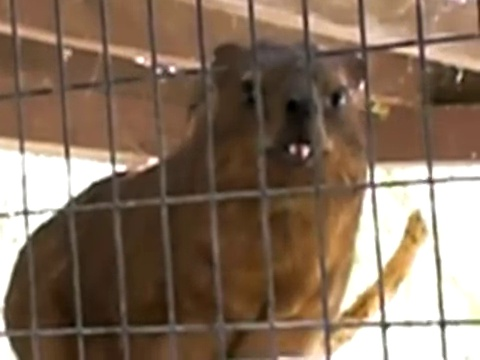Rock Hyrex: (6, 36, 374, 360)
